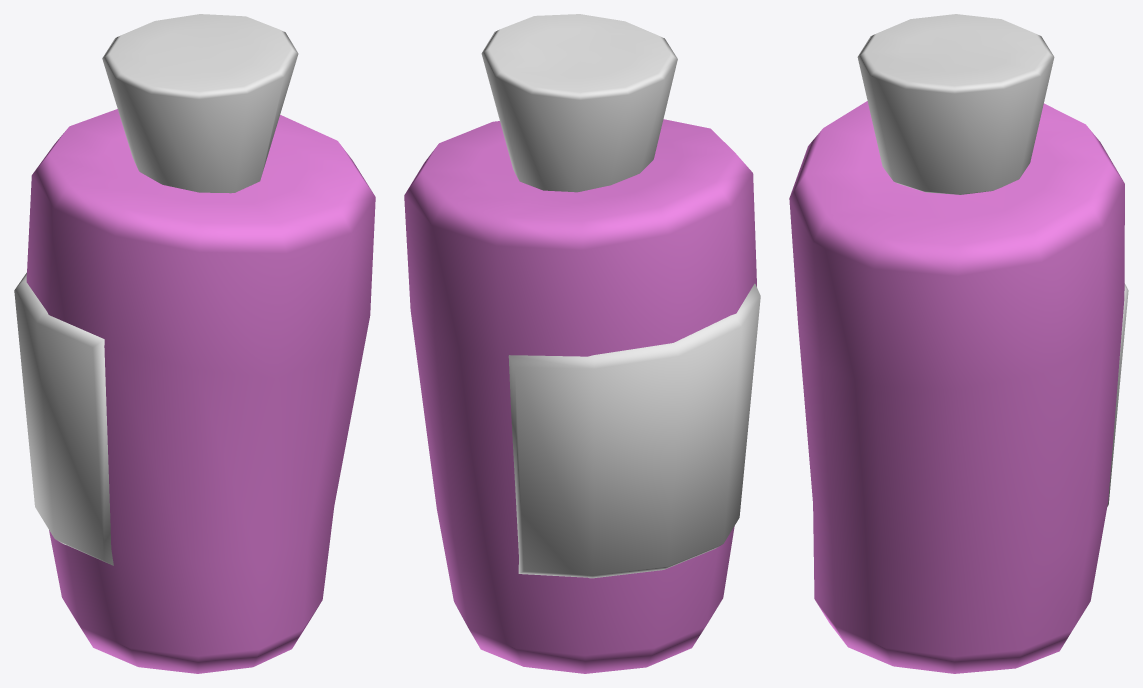
File: props_cleaningProducts1.fbx
The picture shows the model from 3 angles, left to right: view 1: azimuth 30°, elevation 25°; view 2: azimuth 150°, elevation 25°; view 3: azimuth 270°, elevation 25°; orthographic projection.
Visible parts, largest first — view 1: cleaning_product; view 2: cleaning_product; view 3: cleaning_product.
Boxes of the visible parts, <box> form: cleaning_product: <box>14,14,375,673</box>; cleaning_product: <box>404,14,760,673</box>; cleaning_product: <box>789,14,1128,673</box>.
Size of the model in its own units: 0.4448 by 0.4069 by 0.7691.
